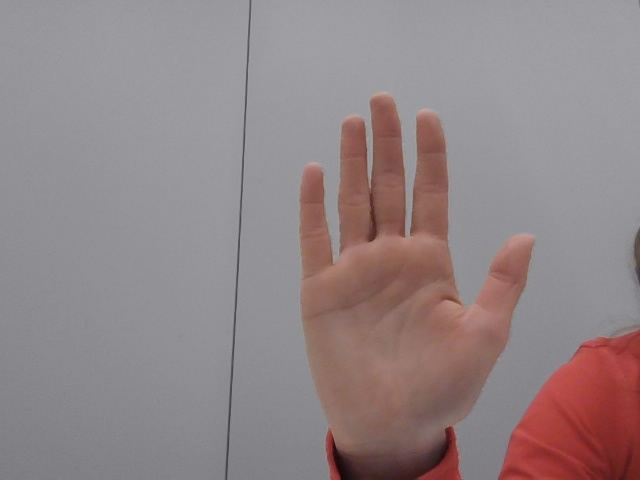nada: (279, 76, 553, 456)
